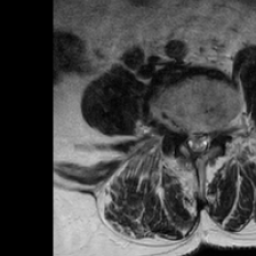CCS_normal: (193, 122, 201, 161)
LFS_severe_stenosis: (211, 122, 222, 148)
LLS_normal: (201, 122, 211, 156)
RFS_severe_stenosis: (174, 120, 185, 148)
RLS_normal: (185, 123, 193, 156)
